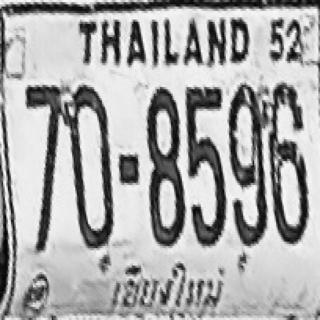N00: (65, 83, 114, 248), (227, 83, 265, 183)
N05: (185, 85, 226, 246)
N06: (265, 82, 309, 245)
N08: (147, 86, 186, 247)
P11: (107, 260, 226, 310)
